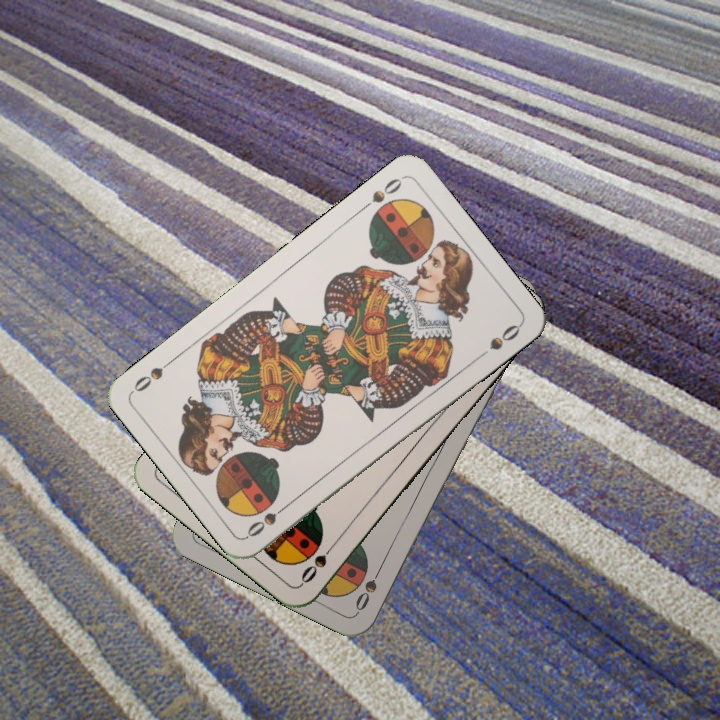SO: (296, 537, 340, 587), (242, 498, 294, 540), (356, 172, 406, 214), (351, 559, 387, 614)
